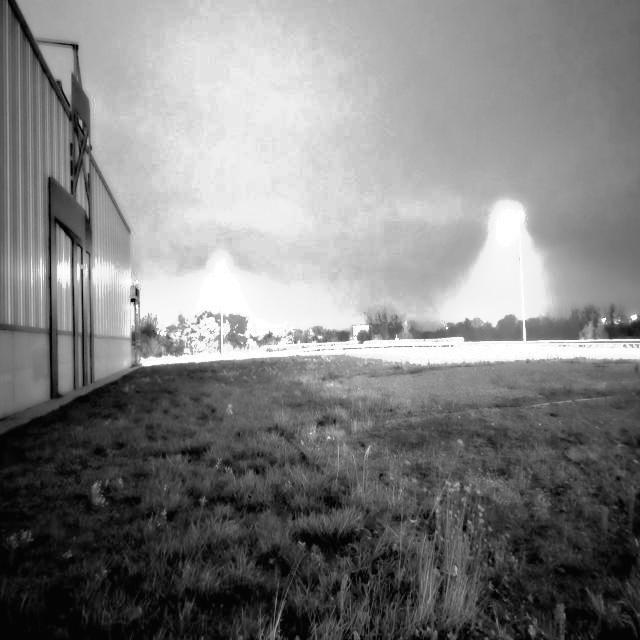Light: (502, 208, 527, 341), (218, 262, 225, 356)
